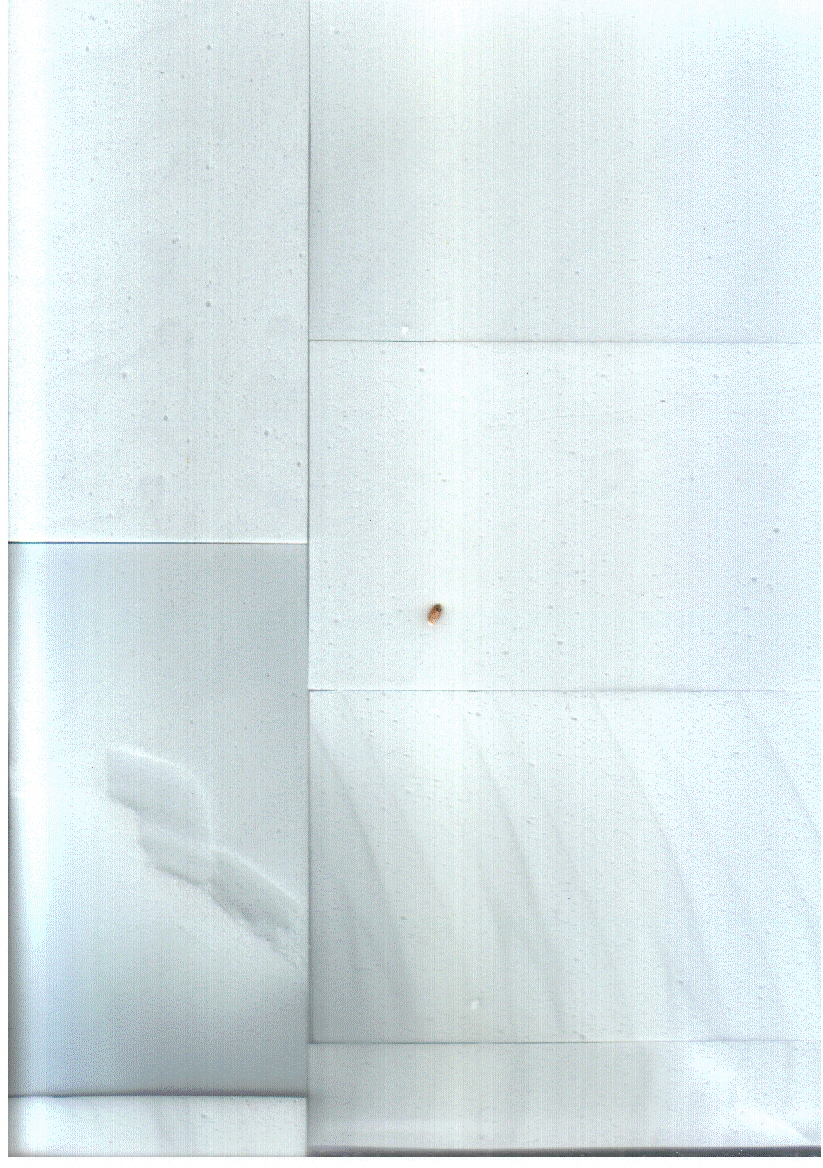grains: (417, 583, 456, 640)
